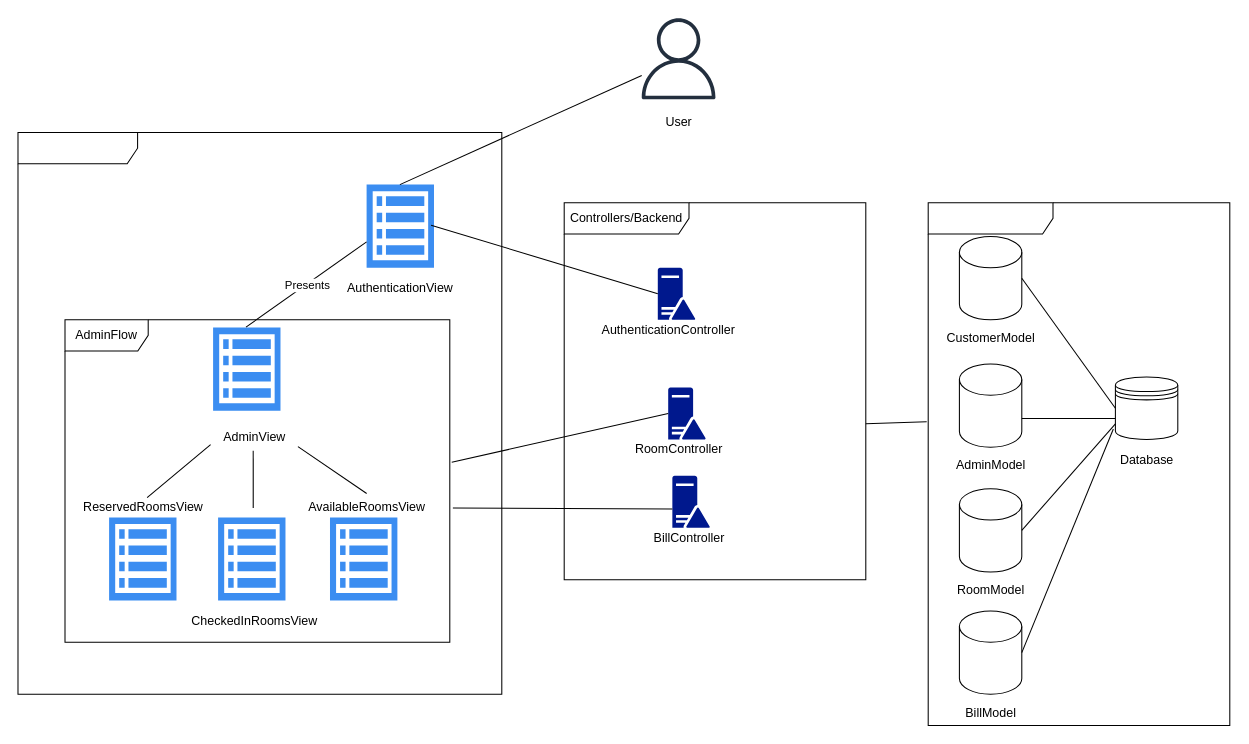
The diagram is 1249 pixels wide and 744 high, and some of its shapes have lost their labels. The box of each missing label's shape, as (x1, y1, x2, y2) in pixels:
Models/Database: (927, 202, 1230, 725)
Views/Frontend: (17, 132, 502, 694)
